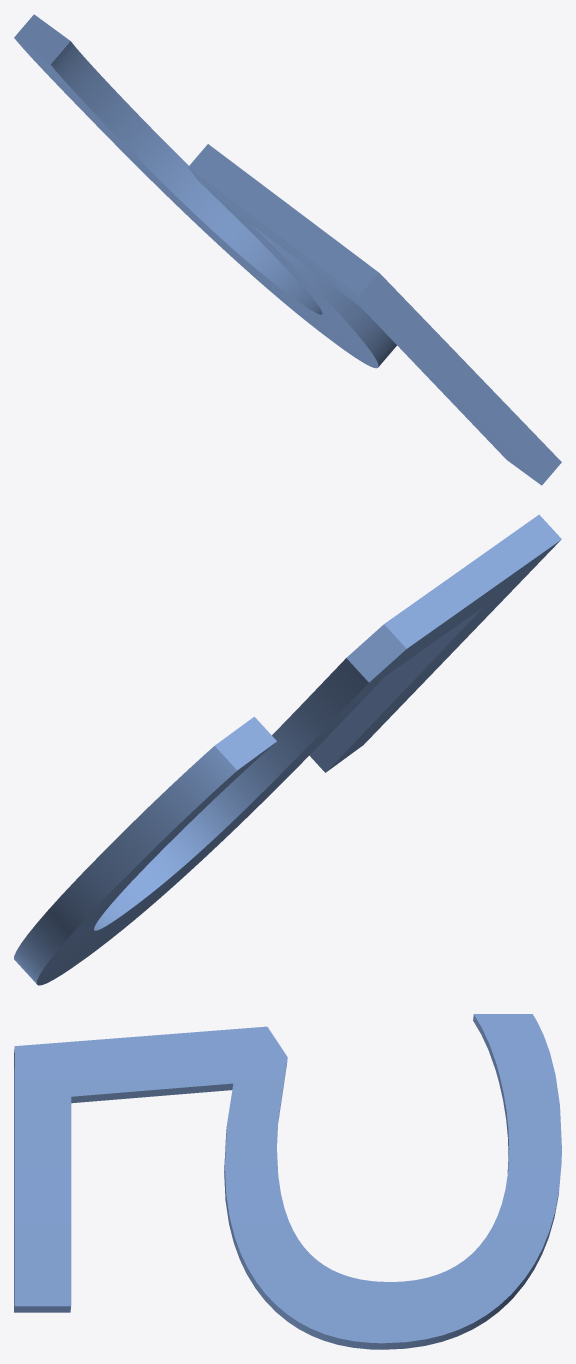
The model's file is New_Number_5.gltf.
The picture shows the model from 3 angles, top to bottom: view 1: azimuth 30°, elevation 25°; view 2: azimuth 150°, elevation 25°; view 3: azimuth 270°, elevation 25°; orthographic projection. The views are drawn at different scales.
Parts seen in each view (by area): view 1: Part 257; view 2: Part 257; view 3: Part 257.
Boxes of the visible parts, x1,y1,x2,y2 form: Part 257: [14, 14, 561, 485]; Part 257: [14, 514, 561, 985]; Part 257: [14, 1014, 561, 1349].
Bounding box in the file's own units: 0.00238 × 0.00284 × 0.00558.
